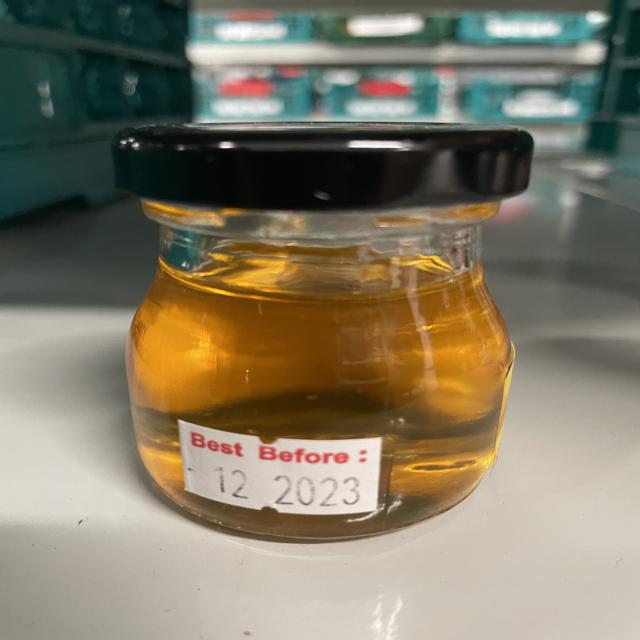object_name: (119, 129, 519, 543)
